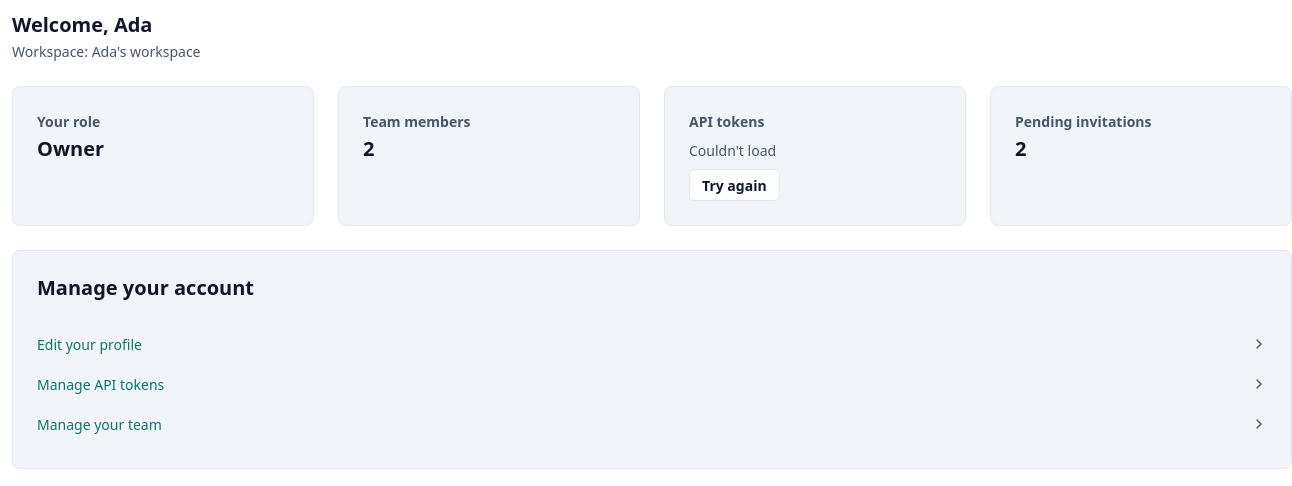
Test: home dashboard (UI-09) › gives the tokens card its own error with a retry that does not affect the rest of the page
Expected: the element with test id "stat-tokens" shows "Couldn't load", [689, 141, 776, 160]
Expected: the element with test id "stat-role" shows "Owner", [13, 87, 313, 185]
Click the button with test id "stat-tokens-retry": (734, 185) [689, 169, 780, 201]
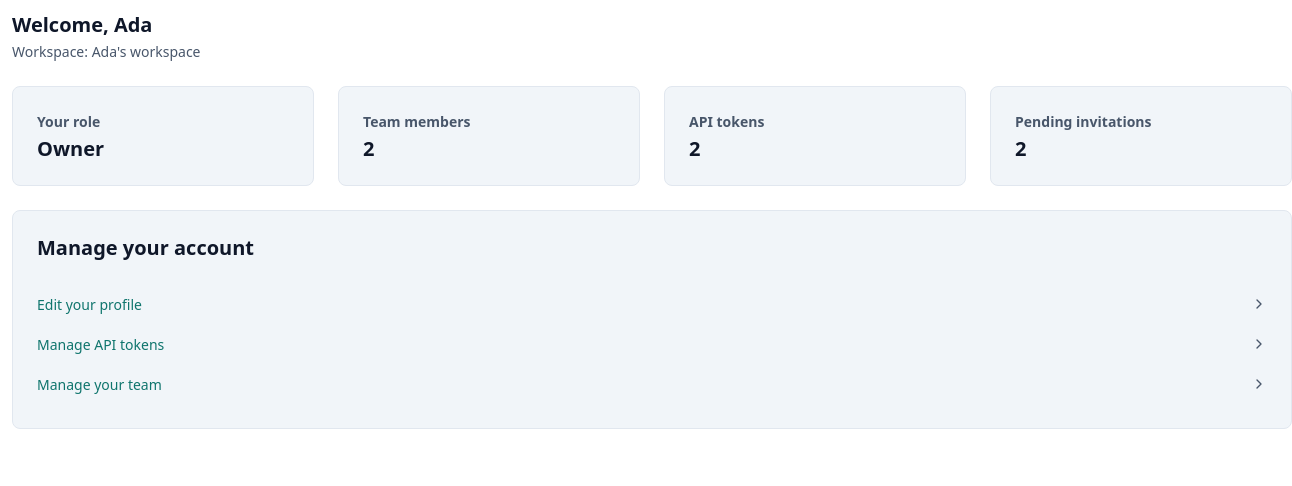
Now the element with test id "stat-tokens" shows "2", box [665, 87, 965, 185]
